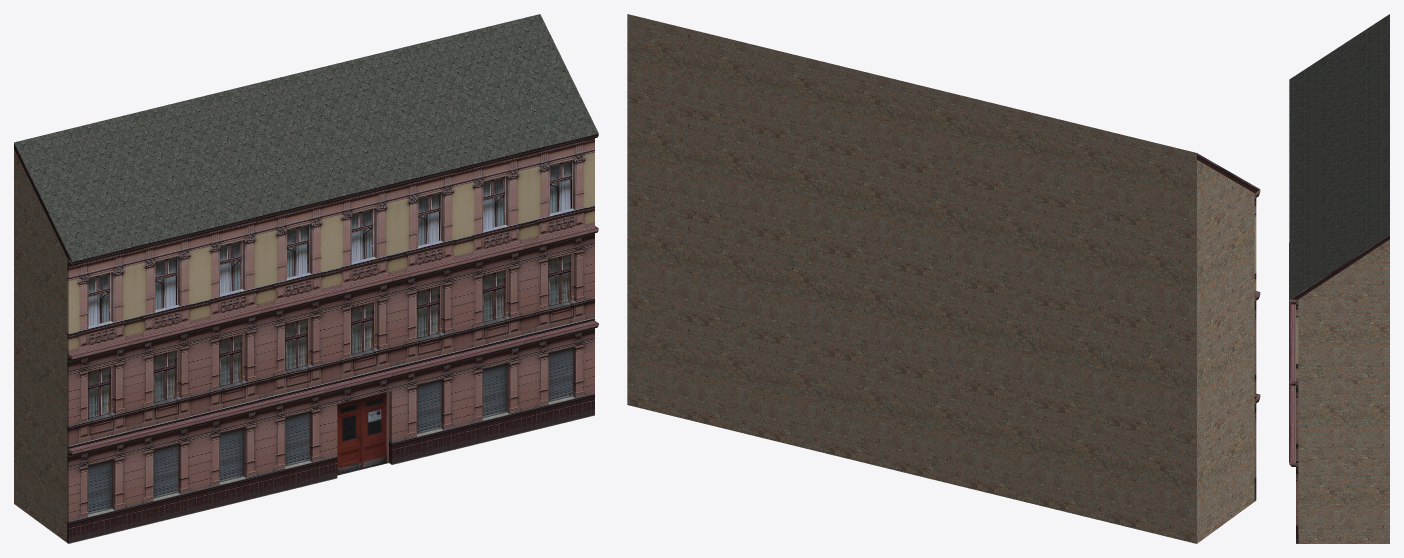
Rendered from PBP1_Building2.fbx.
3 renders of one model, left to right at view 1: azimuth 30°, elevation 25°; view 2: azimuth 150°, elevation 25°; view 3: azimuth 270°, elevation 25°, orthographic. The views are drawn at different scales.
Parts seen in each view (by area): view 1: PBP1_Building2; view 2: PBP1_Building2; view 3: PBP1_Building2.
Part boxes in pixels (x1,y1,x2,y2): PBP1_Building2: [14, 14, 598, 543]; PBP1_Building2: [627, 14, 1260, 543]; PBP1_Building2: [1289, 14, 1389, 543].
Size of the model in its own units: 375 by 1942 by 1274.
